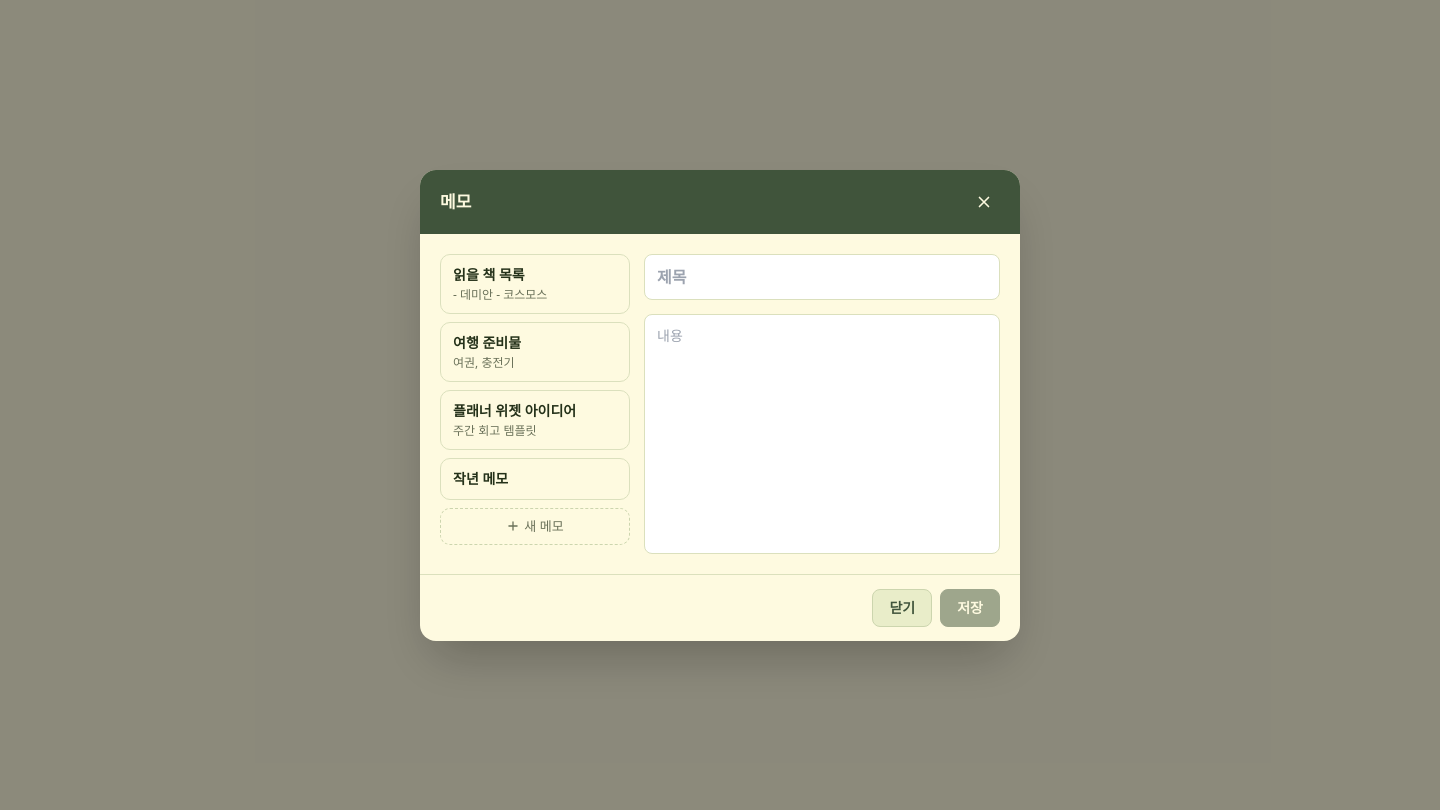
메모 창 OV-06 (US-25) › 400이 오면 제목·내용 두 칸 모두 오류 표시 (D-047)
Type "x" into the text box named "메모 내용" at (822, 434), box 644,314 -> 1000,554
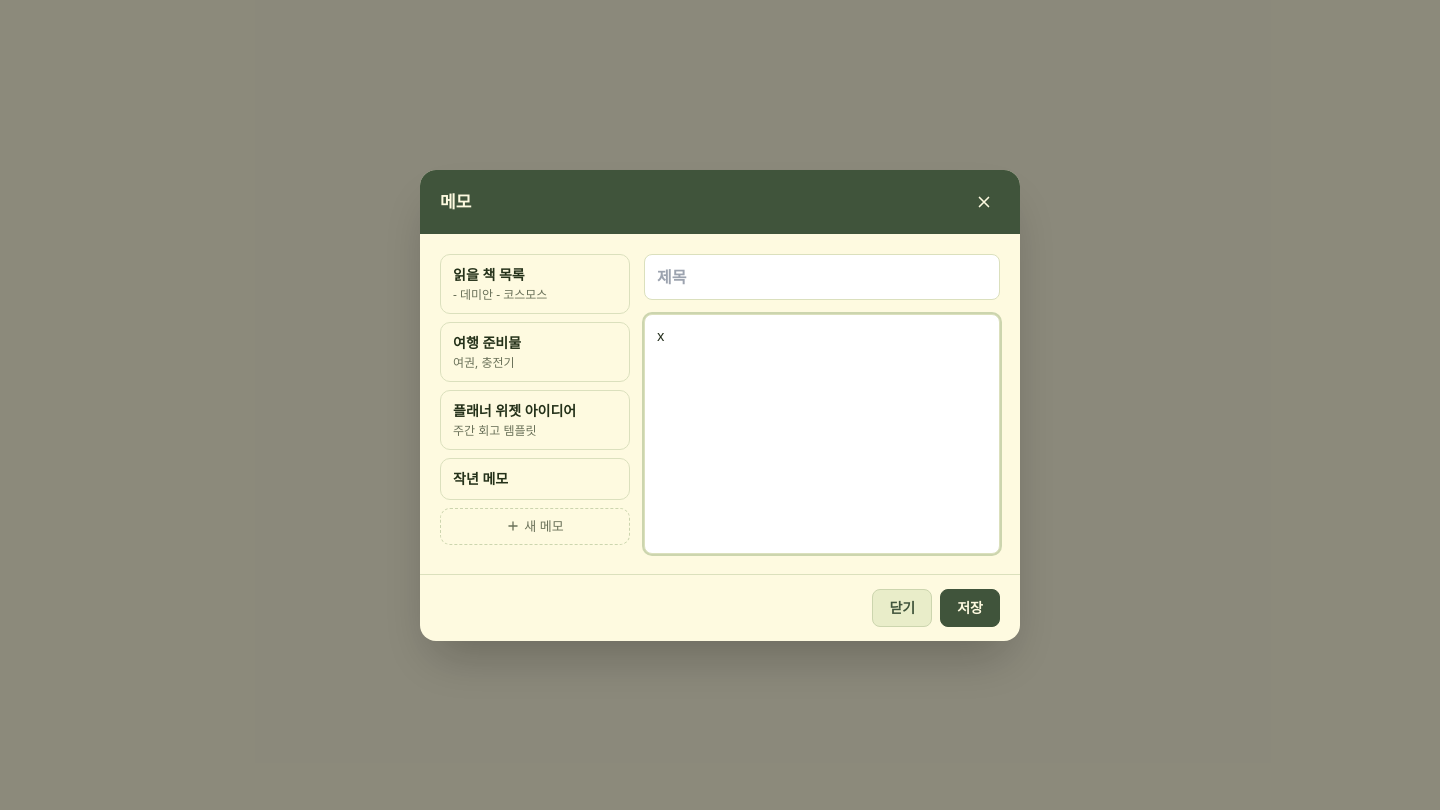
Click the button "저장" at (970, 608), box 940,588 -> 1000,626
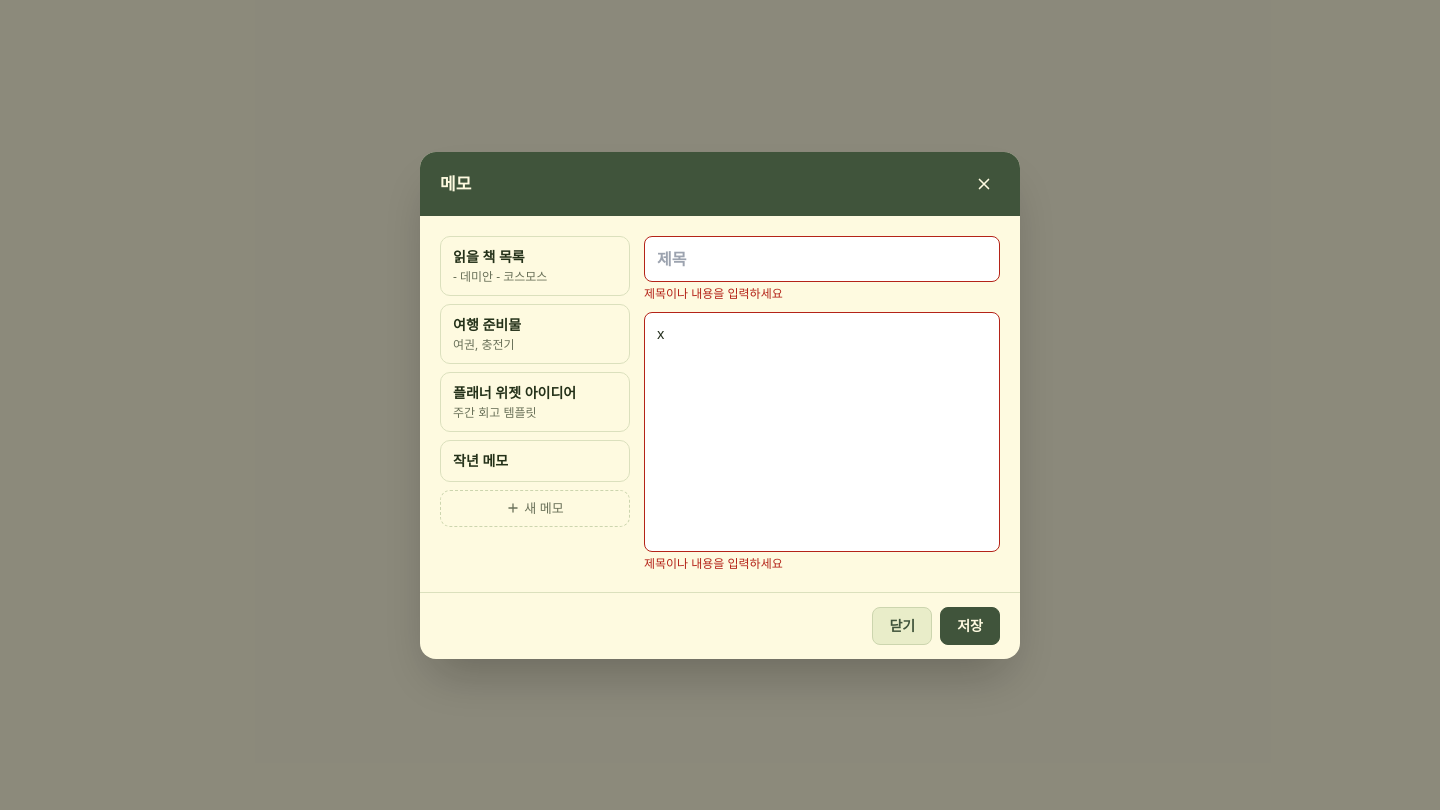
Result: the text "제목이나 내용을 입력하세요" is shown 2 times at 644,286 -> 783,302; 644,554 -> 783,572
